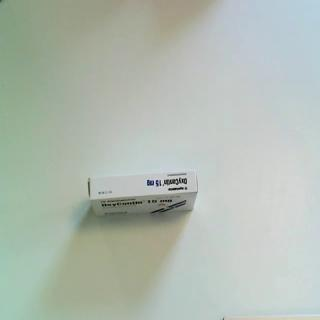oxycontin15mg: (87, 169, 199, 219)
